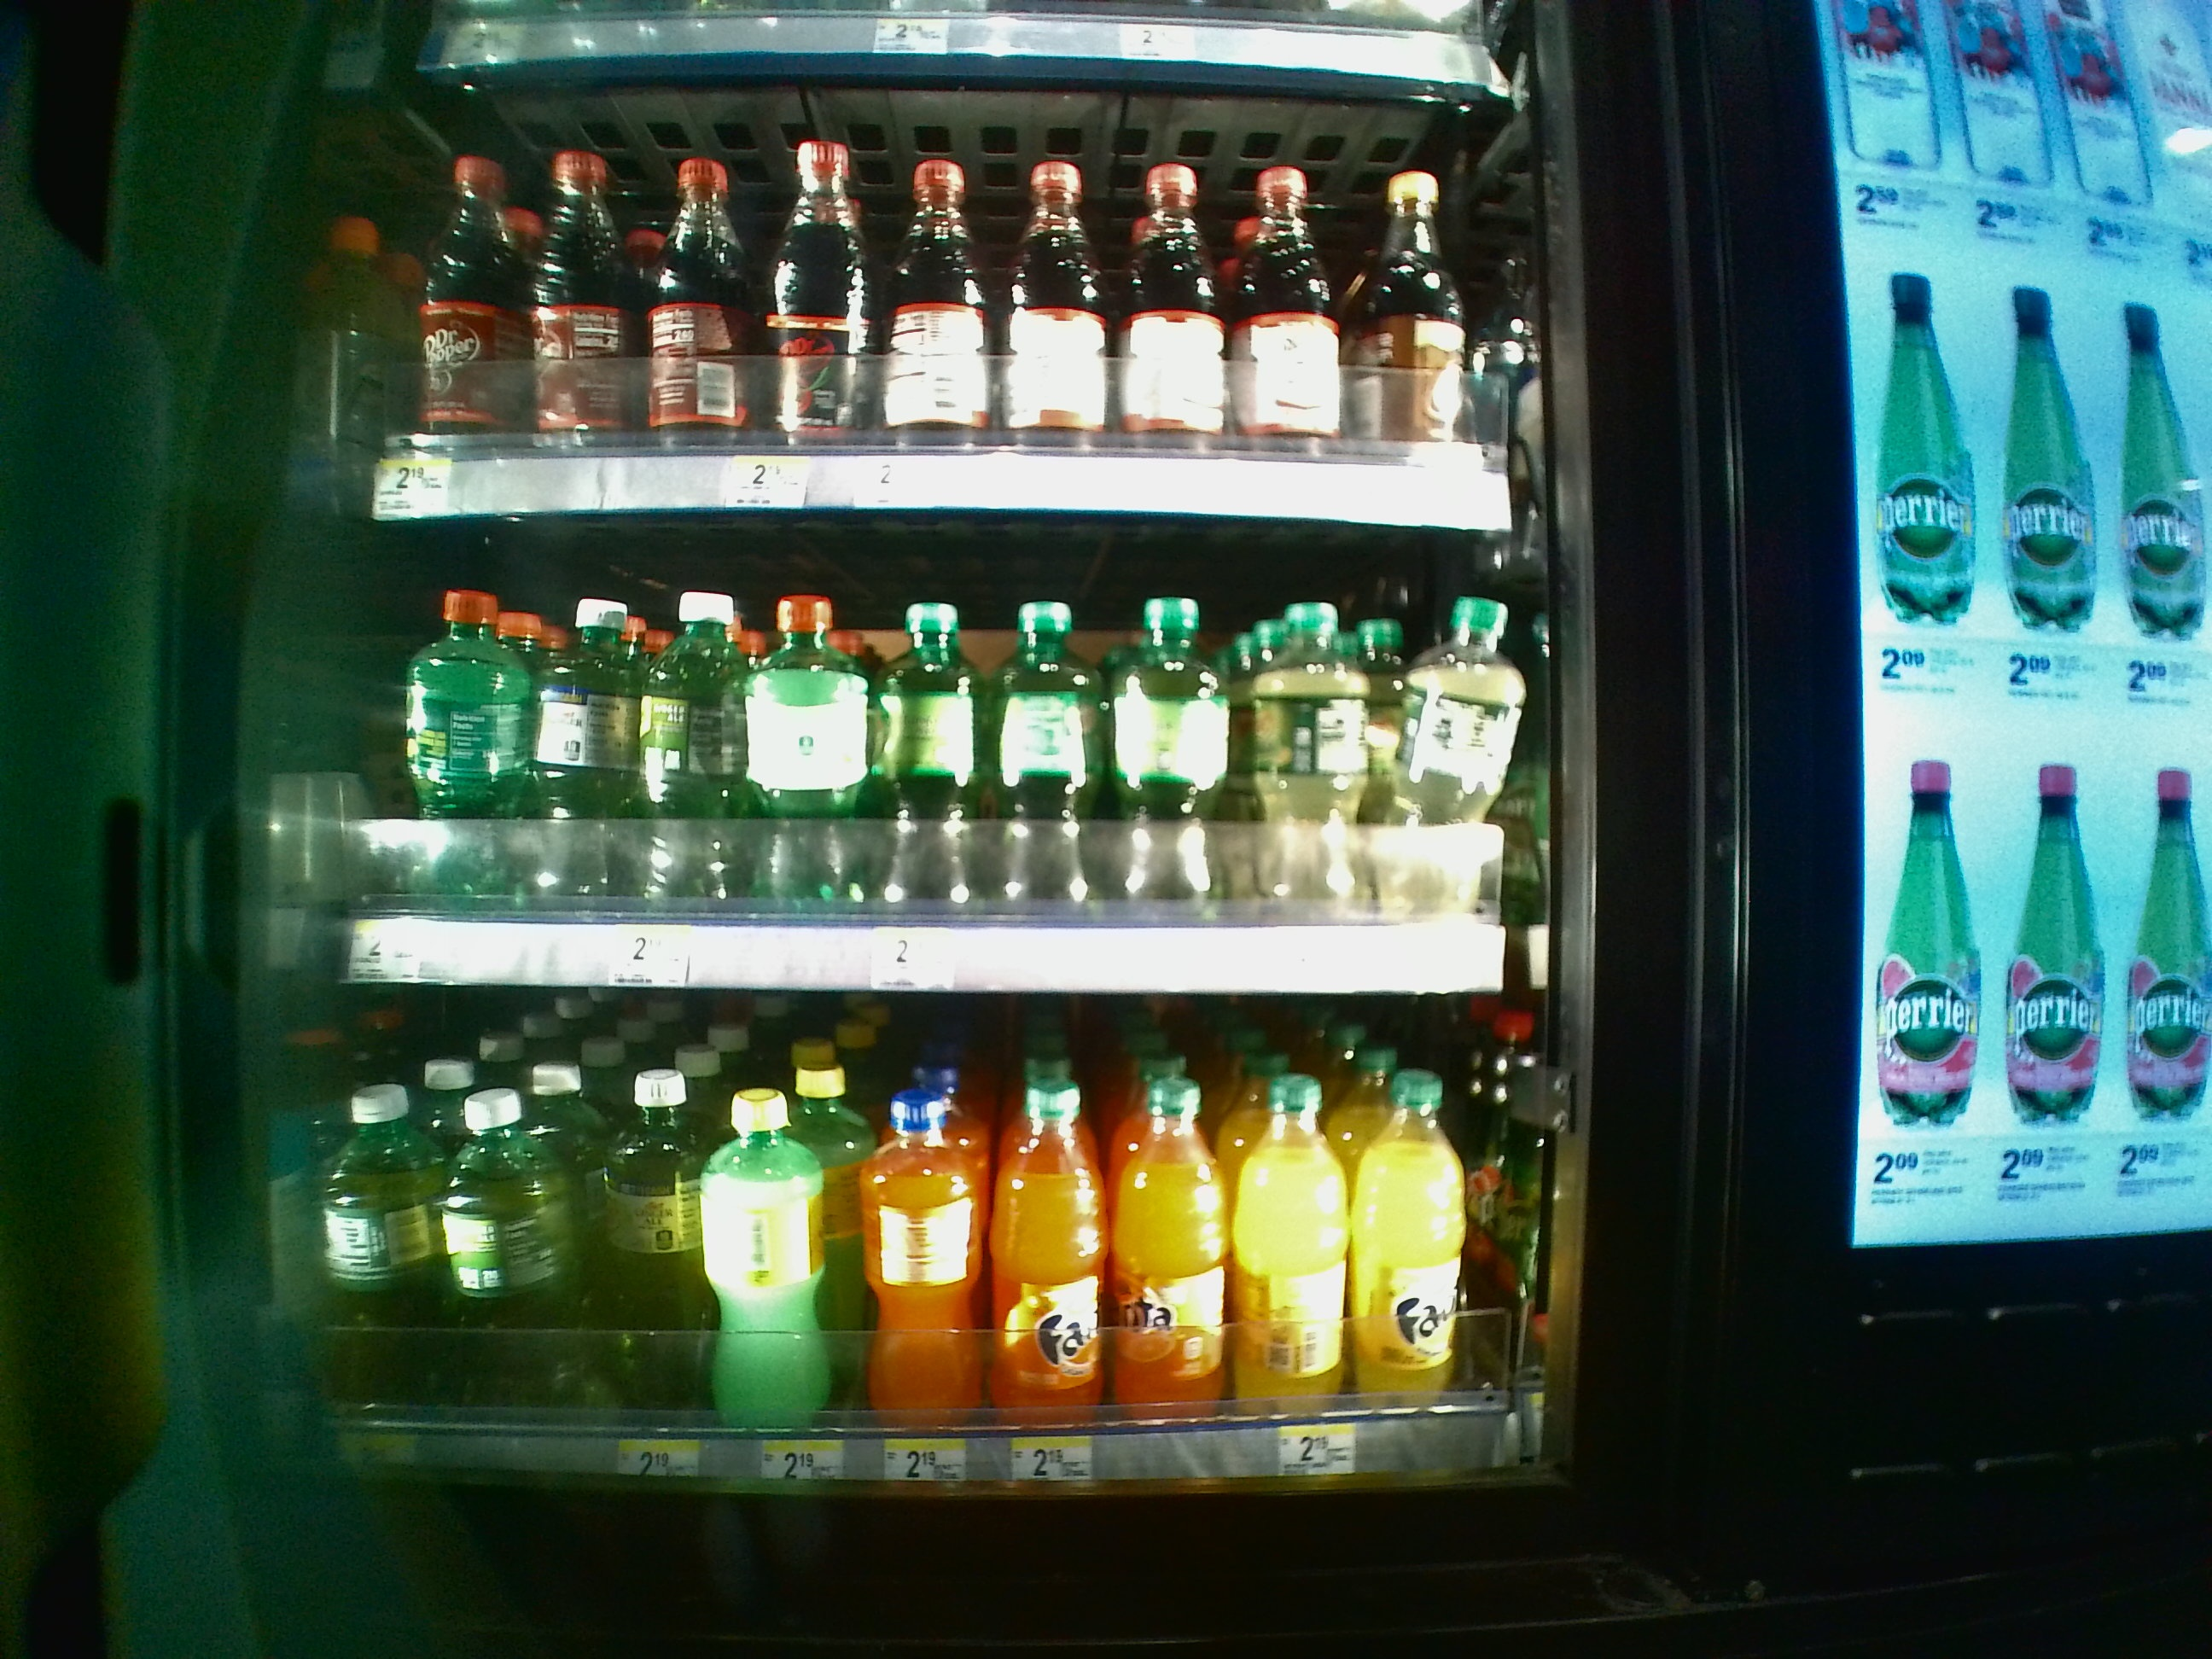shelf: (315, 997, 1576, 1497), (320, 518, 1576, 995)
